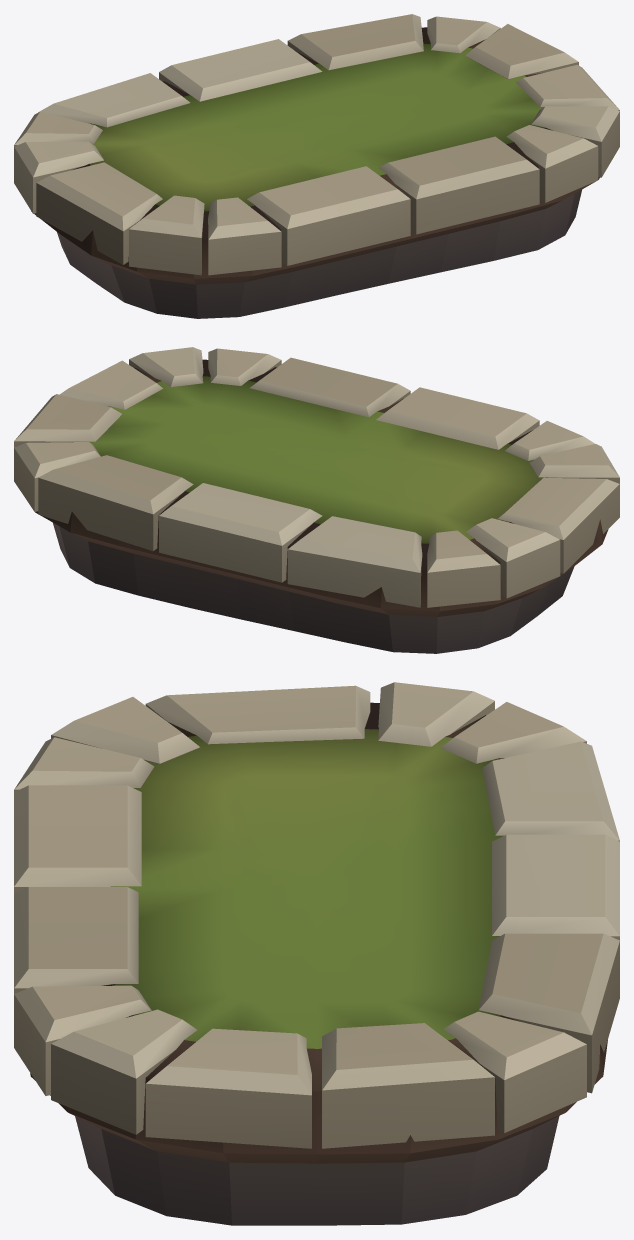
The model's file is plateforme_pierre_S.glb.
3 views of the same model, one above another, from view 1: azimuth 30°, elevation 25°; view 2: azimuth 150°, elevation 25°; view 3: azimuth 270°, elevation 25° (orthographic). The views are drawn at different scales.
Parts seen in each view (by area): view 1: plateforme_pierre_S; view 2: plateforme_pierre_S; view 3: plateforme_pierre_S.
Boxes of the visible parts, x1=… form: plateforme_pierre_S: x1=14, y1=14, x2=619, y2=318; plateforme_pierre_S: x1=14, y1=347, x2=619, y2=653; plateforme_pierre_S: x1=14, y1=682, x2=619, y2=1225.
Size of the model in its own units: 3.28 by 1 by 2.08.
